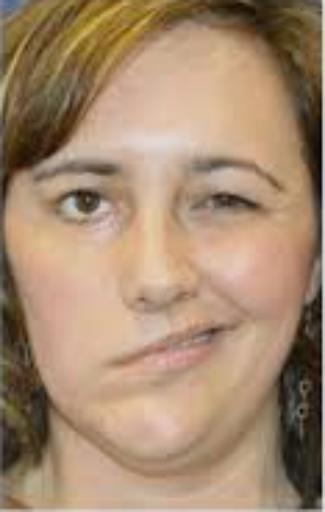left_eye: (194, 191, 266, 220)
left_lip_corner: (210, 319, 238, 343)
right_eye: (43, 188, 121, 231)
right_lip_corner: (96, 349, 128, 377)
